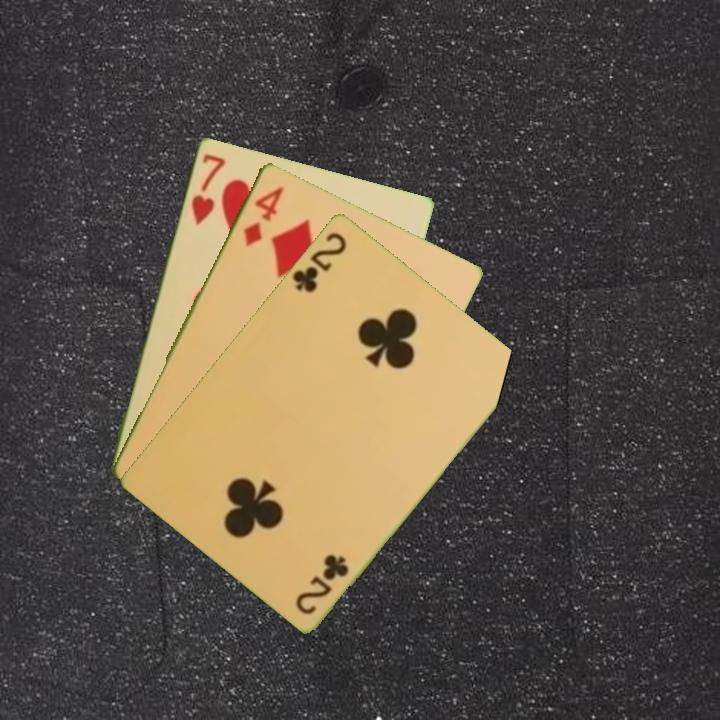2c: (289, 227, 350, 295), (292, 550, 352, 617)
4d: (239, 182, 287, 249)
7h: (187, 150, 228, 228)
